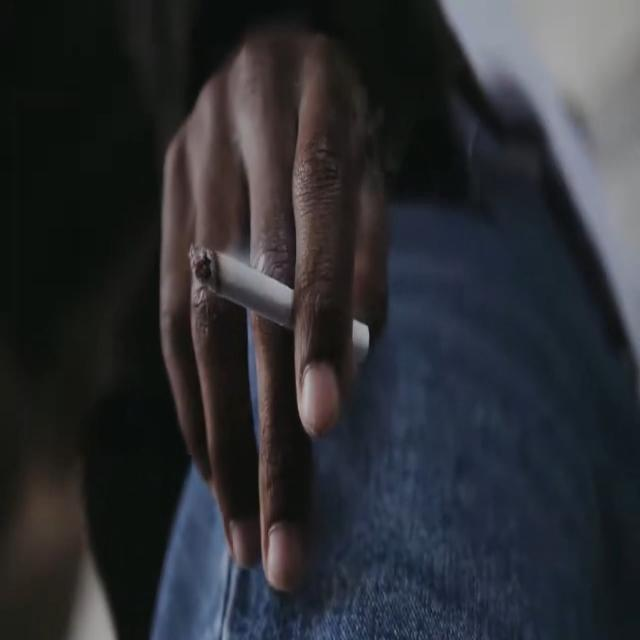Курение: (184, 241, 372, 366)
